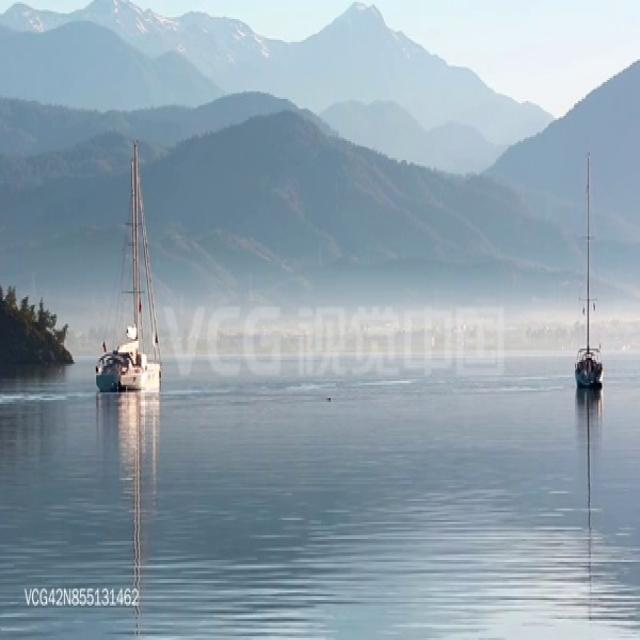sailboat: (89, 137, 159, 397), (570, 144, 605, 392)
